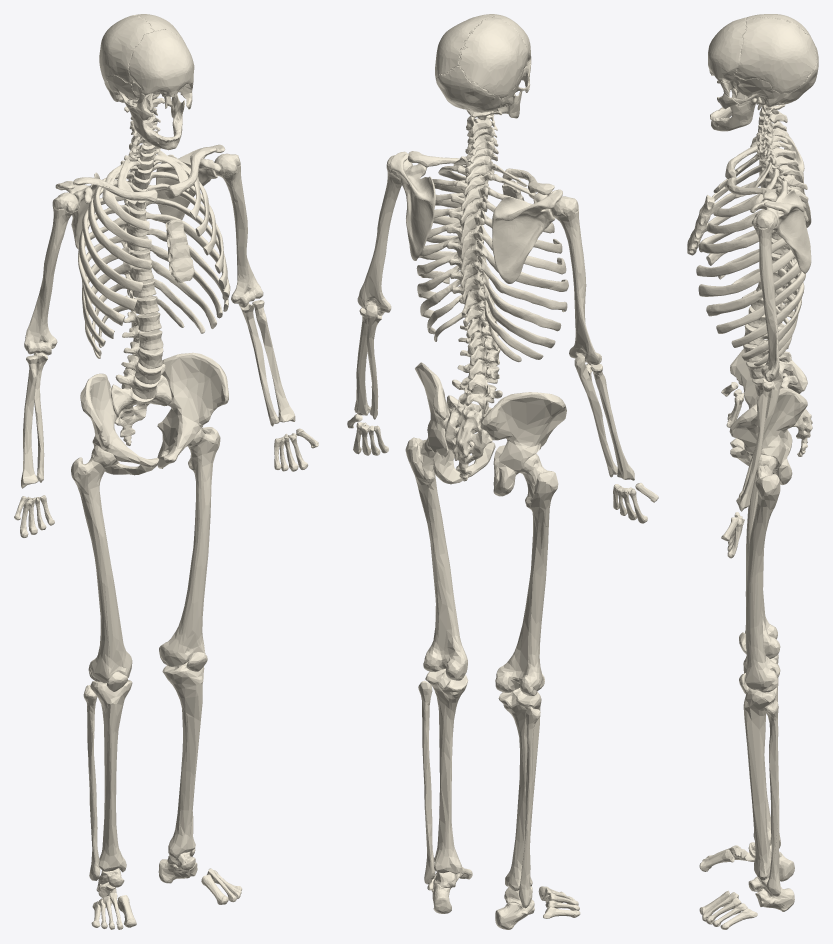
Rendered from skeletal-atlas.glb.
3 renders of one model, left to right at view 1: azimuth 30°, elevation 25°; view 2: azimuth 150°, elevation 25°; view 3: azimuth 270°, elevation 25°, orthographic. The views are drawn at different scales.
Parts seen in each view (by area): view 1: Right femur, Left femur, Left hip bone, Left tibia, Frontal bone, Right tibia, Right hip bone, Right humerus, Left humerus, Right parietal bone, Sacrum, Right fibula (+21 smaller); view 2: Right femur, Left femur, Right hip bone, Right parietal bone, Right scapula, Left tibia, Right tibia, Left hip bone, Right humerus, Left scapula, Sacrum, Left humerus (+14 smaller); view 3: Left femur, Left parietal bone, Left tibia, Left hip bone, Left humerus, Left scapula, Left fibula, Frontal bone, Right hip bone, Left radius, Right femur, Mandible (+27 smaller).
Boxes of the visible parts, x1,y1,x2,y2 form: Right femur: [71, 445, 132, 683]; Left femur: [159, 427, 220, 666]; Left hip bone: [157, 352, 228, 468]; Left tibia: [162, 661, 204, 858]; Frontal bone: [129, 29, 194, 97]; Right tibia: [90, 680, 132, 872]; Right hip bone: [80, 373, 159, 475]; Right humerus: [24, 192, 78, 355]; Left humerus: [214, 153, 263, 307]; Right parietal bone: [99, 15, 154, 84]; Sacrum: [111, 375, 171, 445]; Right fibula: [83, 685, 100, 880]; Right femur: [495, 453, 558, 695]; Left femur: [405, 437, 467, 680]; Right hip bone: [480, 392, 566, 496]; Right parietal bone: [458, 16, 528, 98]; Right scapula: [492, 189, 562, 283]; Left tibia: [425, 668, 468, 873]; Right tibia: [498, 688, 541, 890]; Left hip bone: [415, 362, 495, 484]; Right humerus: [551, 196, 601, 364]; Left scapula: [389, 151, 435, 260]; Sacrum: [445, 395, 492, 481]; Left humerus: [357, 155, 412, 315]; Left femur: [745, 454, 780, 692]; Left parietal bone: [734, 17, 816, 93]; Left tibia: [743, 687, 776, 880]; Left hip bone: [729, 388, 807, 484]; Left humerus: [751, 210, 779, 381]; Left scapula: [750, 189, 811, 273]; Left fibula: [764, 700, 780, 896]; Frontal bone: [708, 17, 746, 82]; Right hip bone: [730, 339, 807, 455]; Left radius: [736, 382, 773, 511]; Right femur: [745, 473, 780, 658]; Mandible: [710, 88, 757, 131].
Bounding box in the file's own units: 1.24 × 3.41 × 0.4637.
